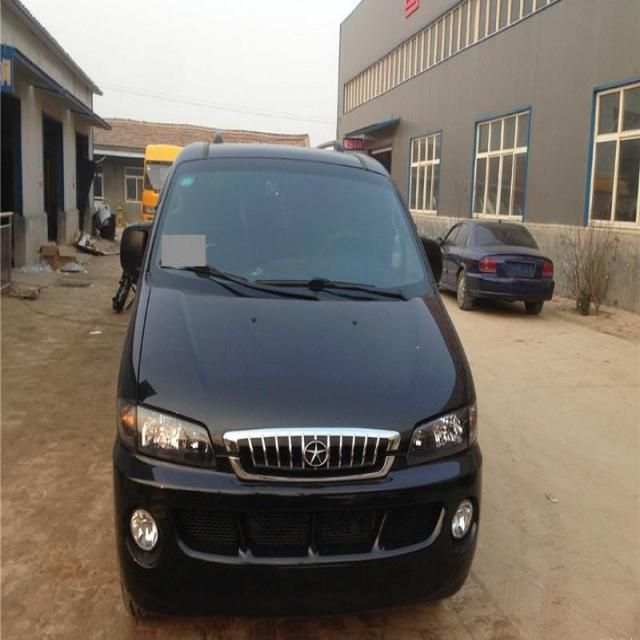front_bumper: (110, 432, 482, 600)
front_glass: (152, 155, 426, 292)
front_left_side_light: (404, 400, 479, 470)
front_left_side_mirror: (422, 235, 444, 284)
front_right_side_light: (116, 392, 217, 473)
front_right_side_mirror: (120, 219, 150, 279)
